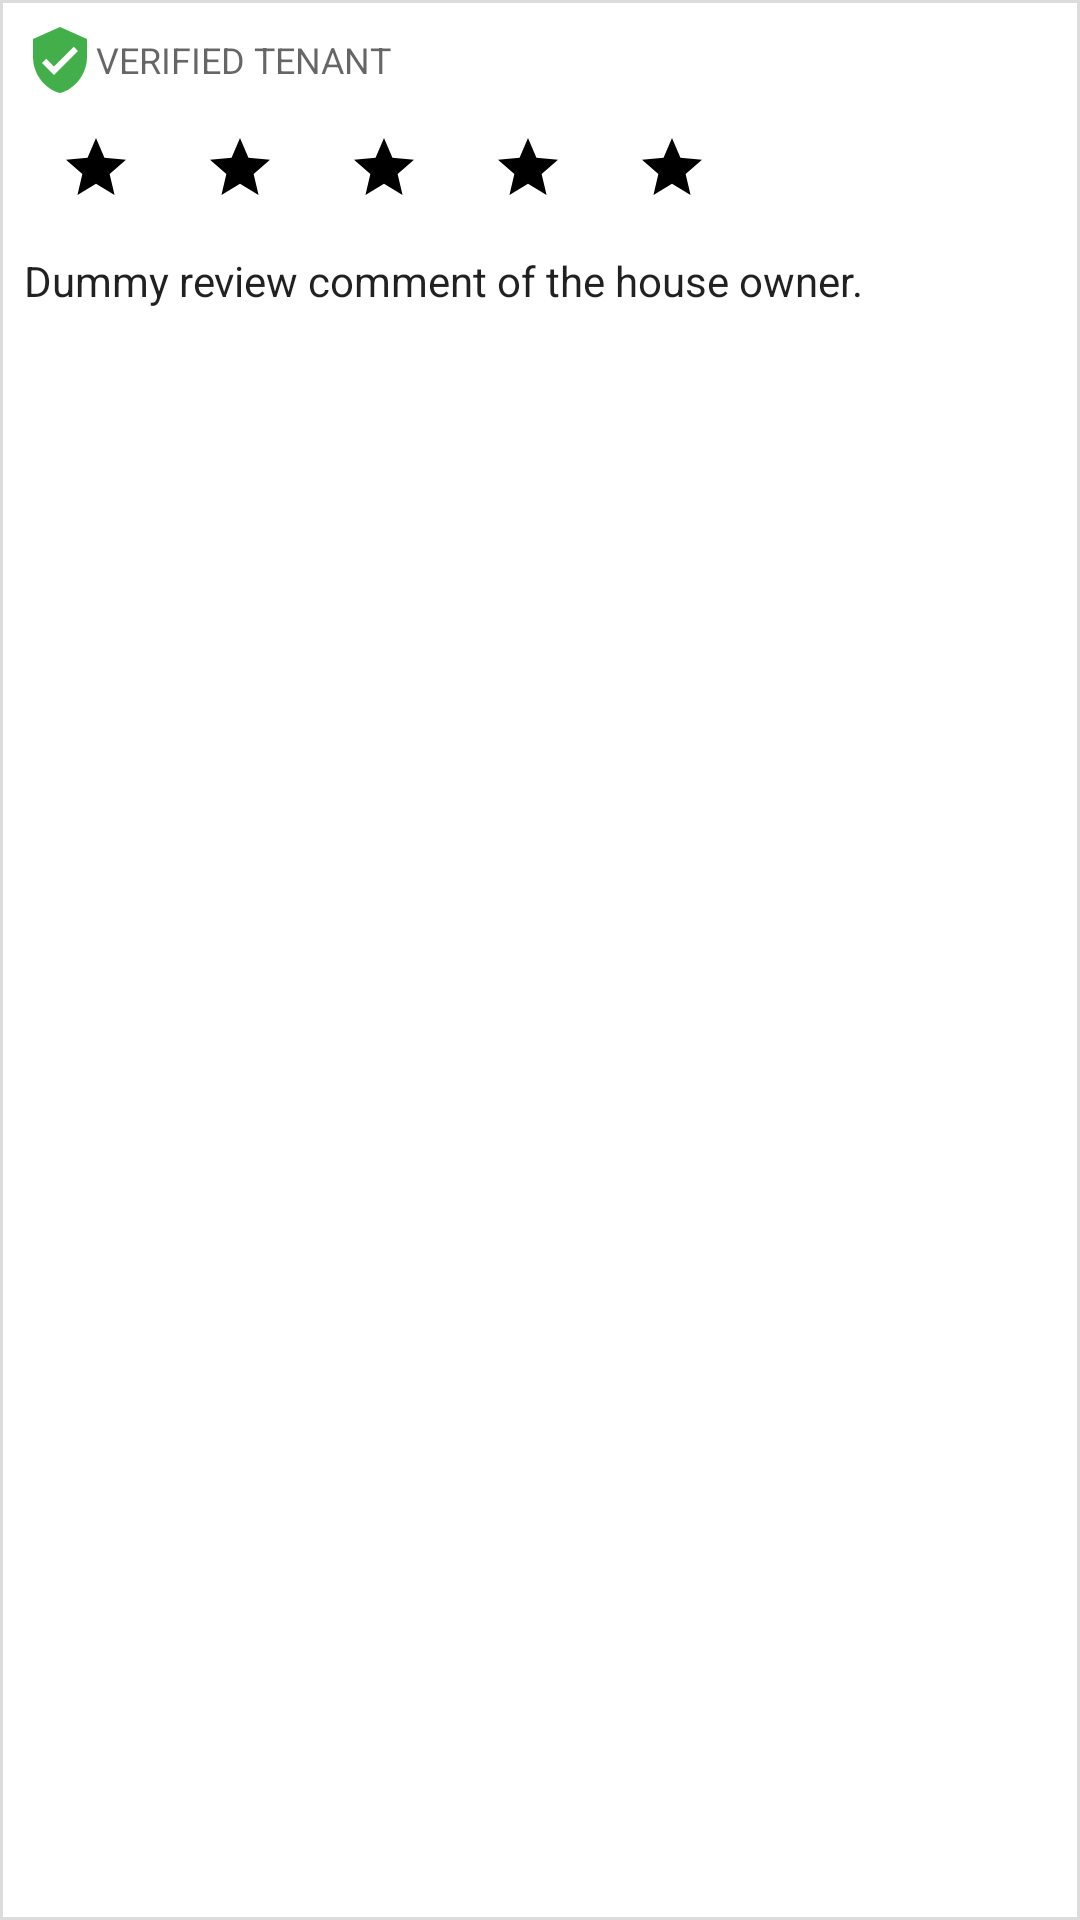

Locate icon controls on the screen. Image size 1080*1920, boxes as (x1, y1, x2, y2).
star: (66, 138, 126, 195), (210, 138, 270, 195), (354, 138, 414, 195), (498, 138, 558, 195), (642, 138, 702, 195)
